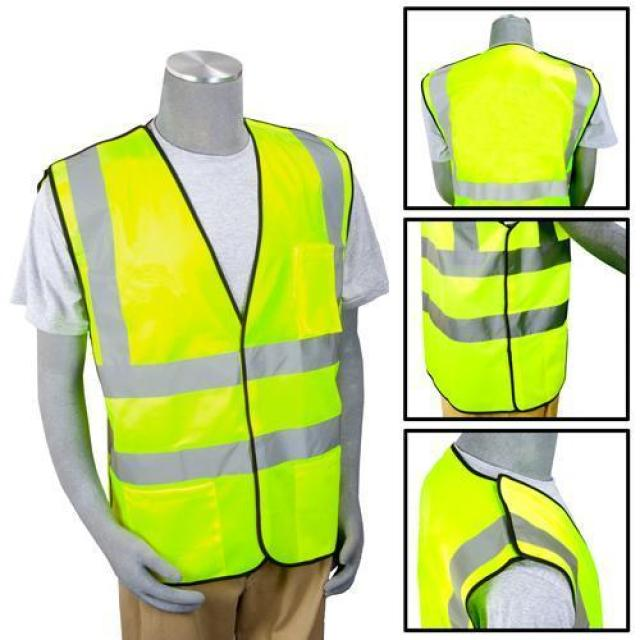Vest: (43, 106, 360, 588), (412, 444, 604, 630), (416, 48, 602, 208), (420, 219, 571, 415)
